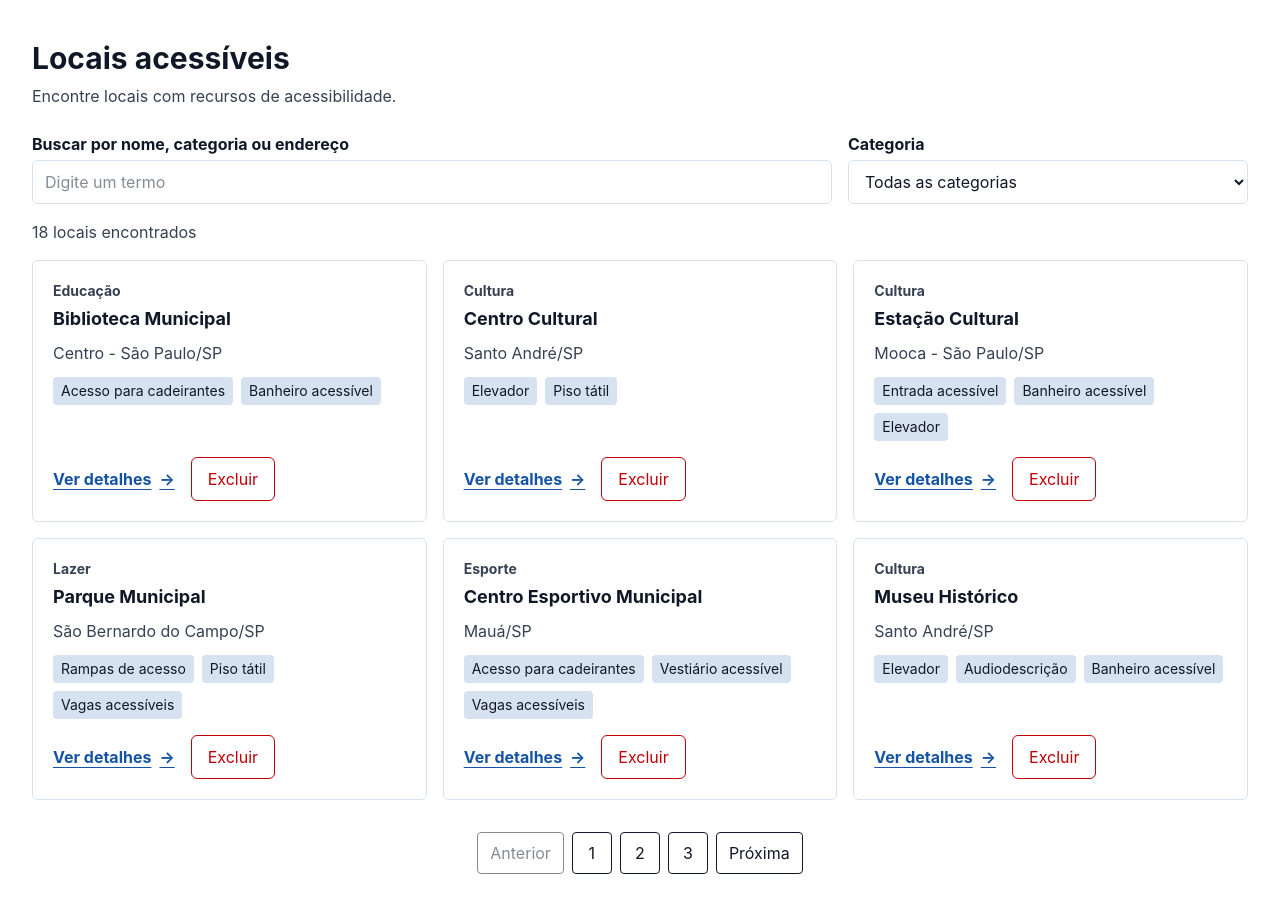
it: Página Locais — exclusão com confirmação › exclui após confirmar, anuncia o resultado e persiste
Click the button with aria-label "Excluir Parque Municipal" at (233, 757), box x1=191 y1=735 x2=275 y2=779
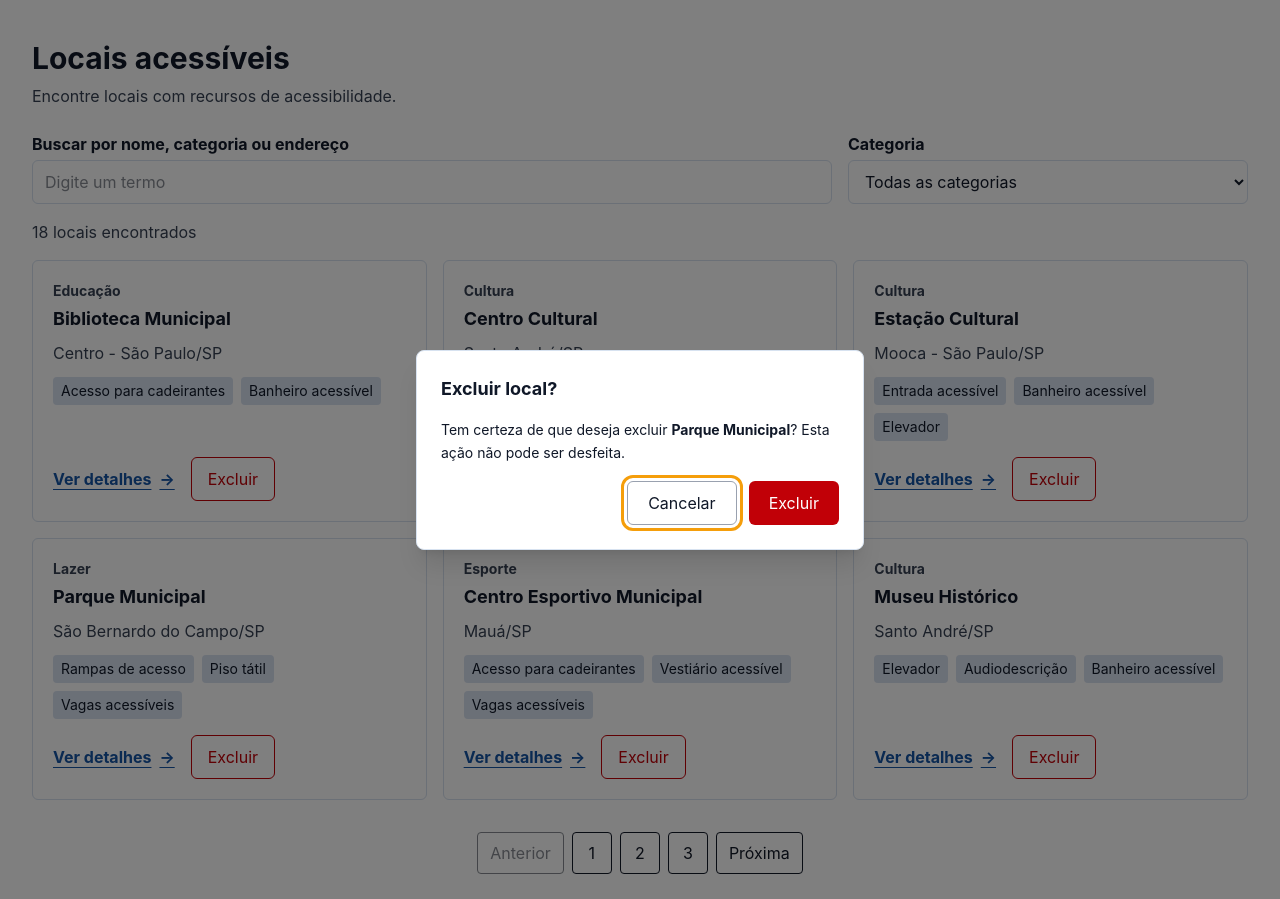
Click the button "Excluir" at (794, 503), box x1=749 y1=481 x2=839 y2=525
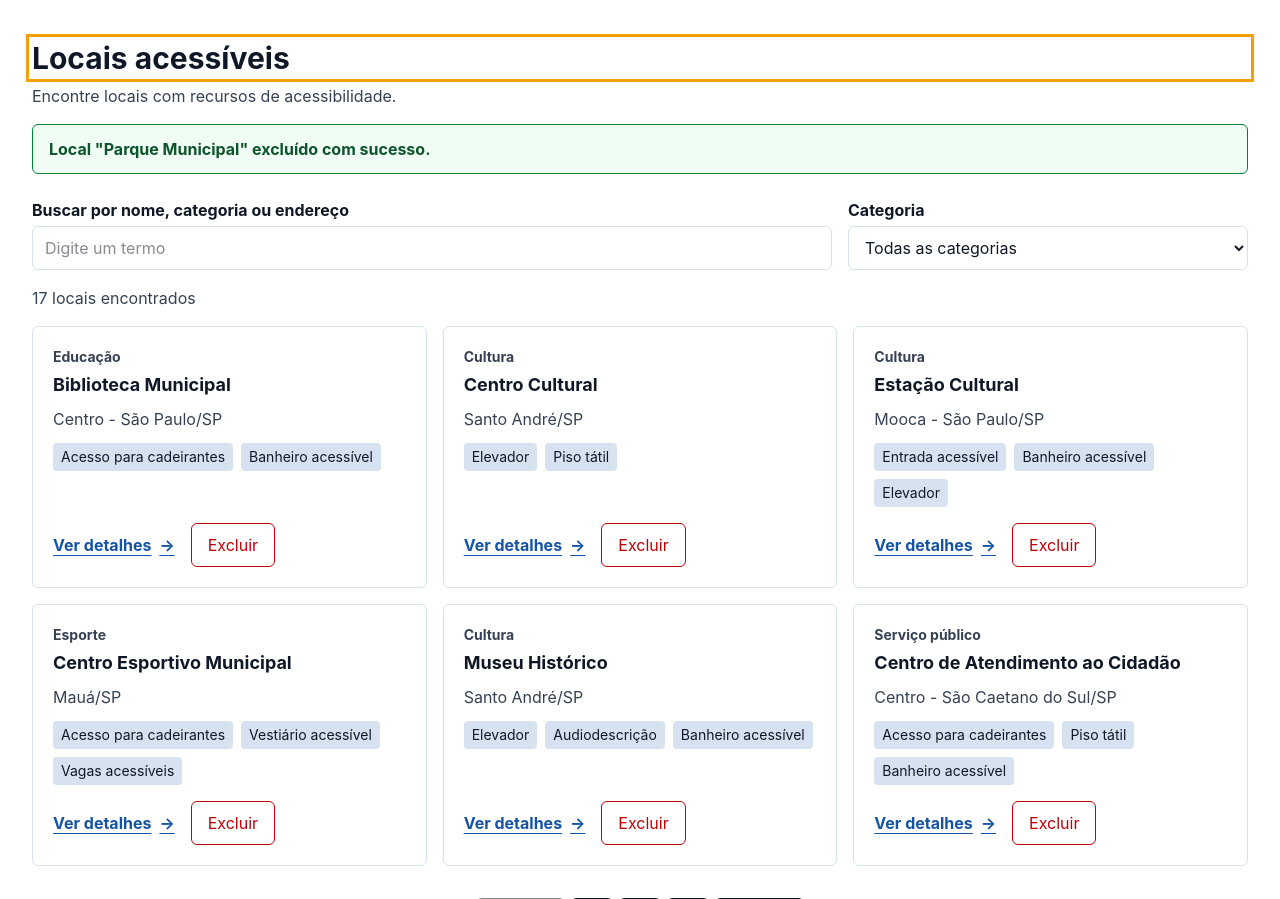
Expected: the dialog is gone
Expected: the text "Local \"Parque Municipal\" excluído com sucesso." is shown, x1=32 y1=124 x2=1248 y2=174
Expected: the text "17 locais encontrados" is shown, x1=32 y1=288 x2=196 y2=308
